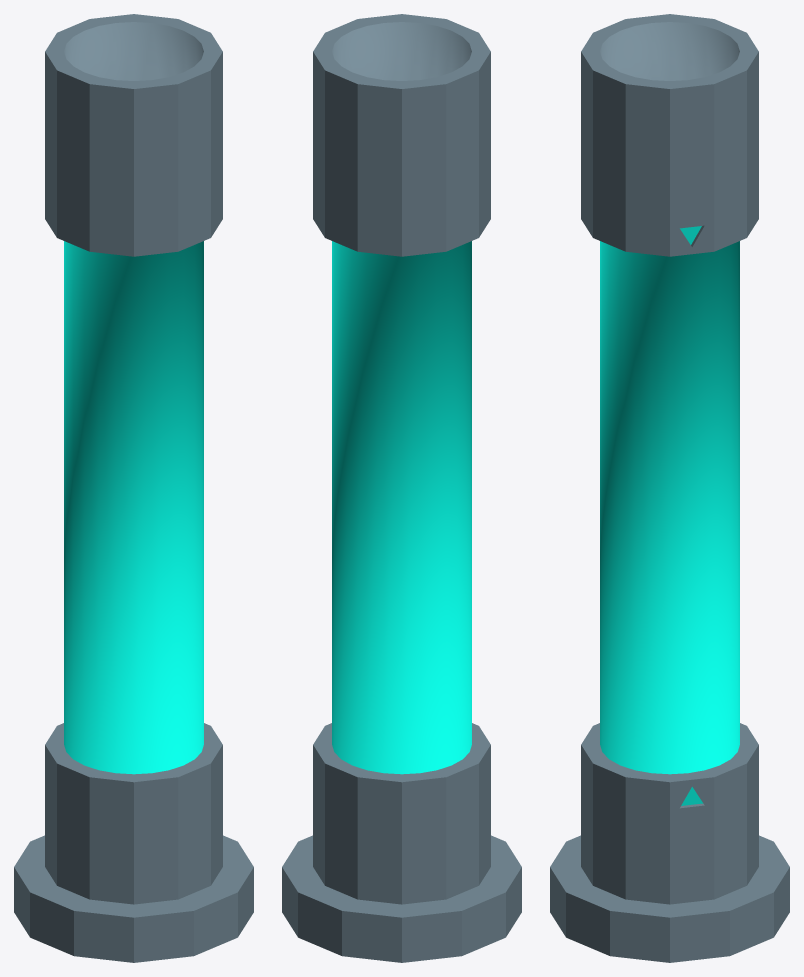
File: pillar-01.fbx
3 views of the same model, side by side, from view 1: azimuth 30°, elevation 25°; view 2: azimuth 150°, elevation 25°; view 3: azimuth 270°, elevation 25° (orthographic).
Parts seen in each view (by area): view 1: pillar-01; view 2: pillar-01; view 3: pillar-01.
Part boxes in pixels (box(x1,y1,x2,y2)): pillar-01: box(14, 14, 253, 962); pillar-01: box(282, 14, 521, 962); pillar-01: box(550, 14, 789, 962).
Bounding box in the file's own units: 24 × 95 × 24.
